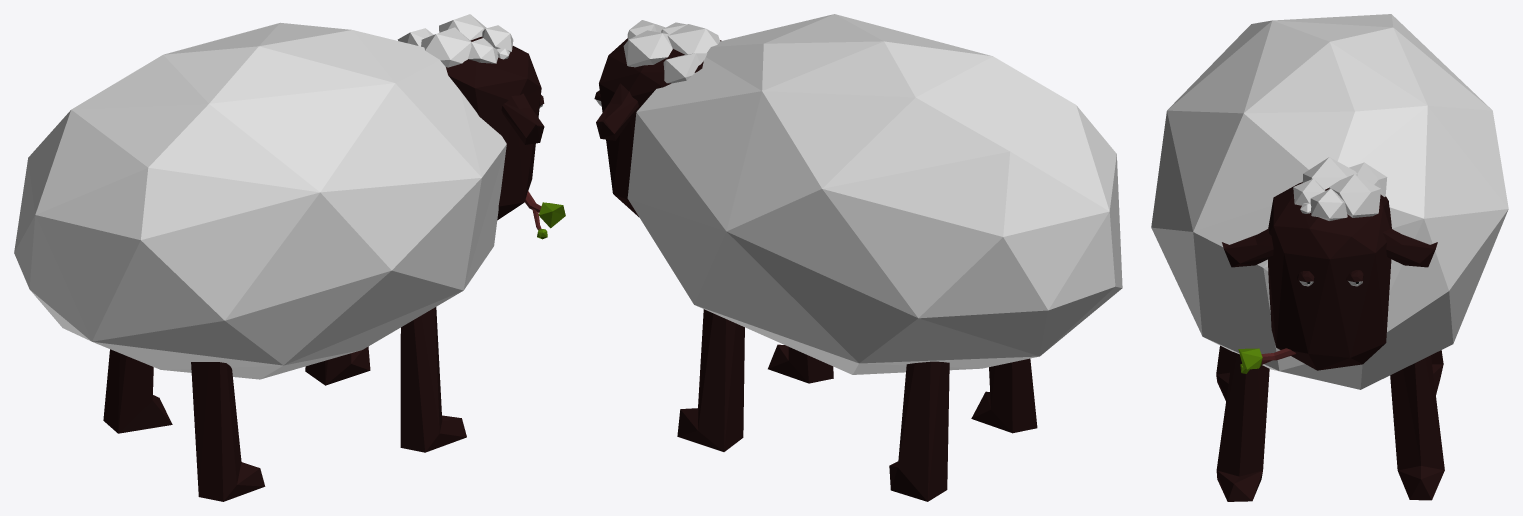
The model's file is Sheep.fbx.
3 views of the same model, side by side, from view 1: azimuth 30°, elevation 25°; view 2: azimuth 150°, elevation 25°; view 3: azimuth 270°, elevation 25° (orthographic). The views are drawn at different scales.
Parts seen in each view (by area): view 1: Icosphere_003_Icosphere_009; view 2: Icosphere_003_Icosphere_009; view 3: Icosphere_003_Icosphere_009.
Part boxes in pixels (bbox=[...]): Icosphere_003_Icosphere_009: bbox=[14, 14, 565, 501]; Icosphere_003_Icosphere_009: bbox=[594, 14, 1122, 501]; Icosphere_003_Icosphere_009: bbox=[1151, 14, 1508, 501].
Size of the model in its own units: 80.69 by 60.07 by 50.53.
